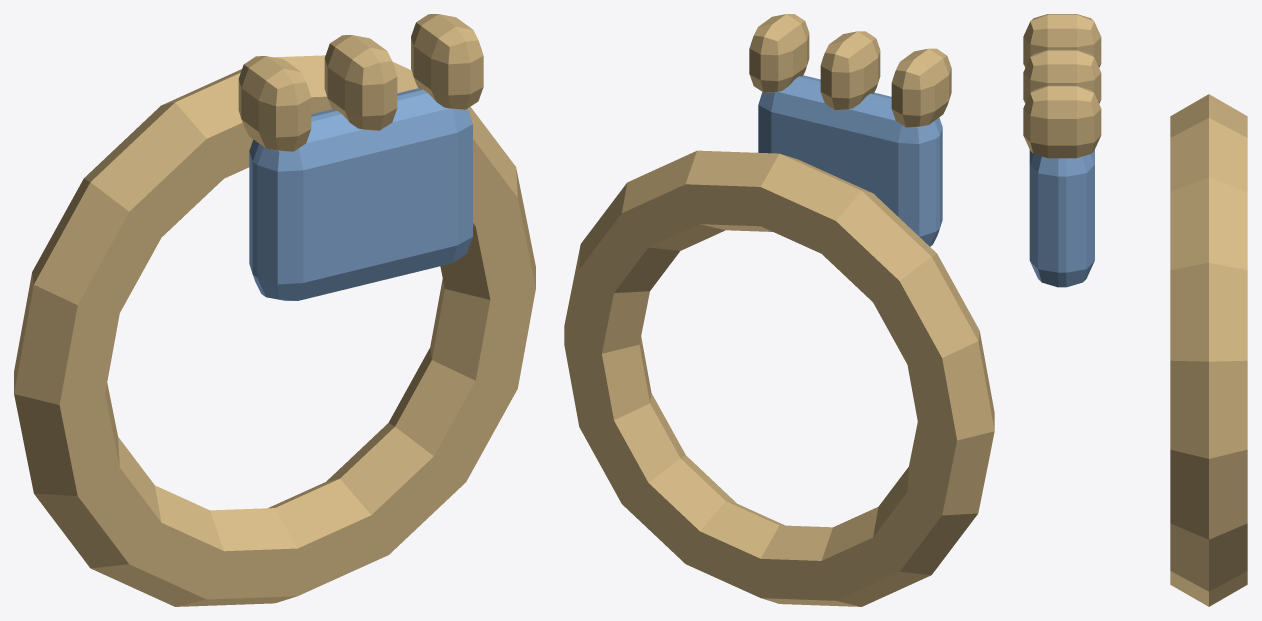
File: arm_aegis_ring.glb
3 renders of one model, left to right at view 1: azimuth 30°, elevation 25°; view 2: azimuth 150°, elevation 25°; view 3: azimuth 270°, elevation 25°, orthographic. The views are drawn at different scales.
Parts seen in each view (by area): view 1: arm_aegis_ring; view 2: arm_aegis_ring; view 3: arm_aegis_ring.
Part boxes in pixels (left/top/right/bottom): arm_aegis_ring: left=14, top=14, right=535, bottom=606; arm_aegis_ring: left=564, top=14, right=994, bottom=606; arm_aegis_ring: left=1023, top=14, right=1247, bottom=606.
Size of the model in its own units: 0.63 by 0.721 by 0.2756.
